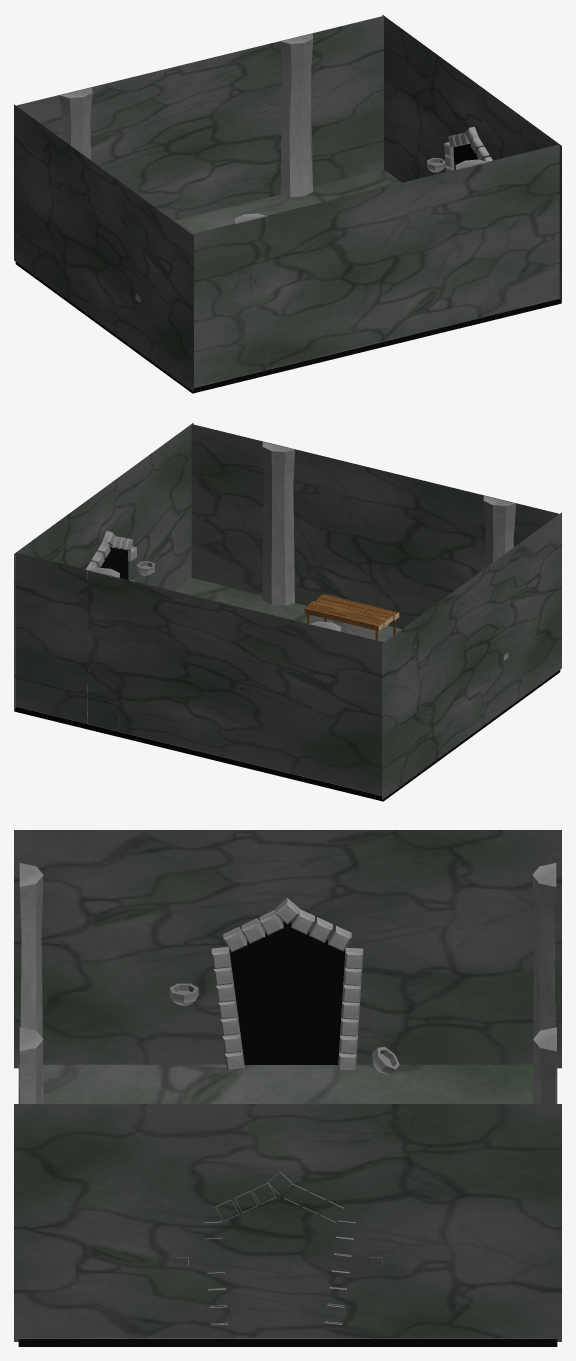
Rendered from donjon.fbx.
The picture shows the model from 3 angles, top to bottom: view 1: azimuth 30°, elevation 25°; view 2: azimuth 150°, elevation 25°; view 3: azimuth 270°, elevation 25°; orthographic projection. The views are drawn at different scales.
Parts seen in each view (by area): view 1: polySurface7, polySurface2, polySurface1, polySurface8, polySurface5, polySurface10, polySurface34; view 2: polySurface2, polySurface7, polySurface1, polySurface8, polySurface5, polySurface10, pCube32, polySurface34, pPlane7; view 3: polySurface8, polySurface1, polySurface10, pPlane6, polySurface5, polySurface15, polySurface34.
Part boxes in pixels (x1=…): polySurface7: x1=192, y1=144, x2=559, y2=387; polySurface2: x1=16, y1=16, x2=383, y2=220; polySurface1: x1=14, y1=104, x2=193, y2=391; polySurface8: x1=382, y1=14, x2=561, y2=301; polySurface5: x1=59, y1=33, x2=488, y2=370; polySurface10: x1=15, y1=169, x2=561, y2=393; polySurface34: x1=427, y1=126, x2=492, y2=172; polySurface2: x1=16, y1=552, x2=383, y2=795; polySurface7: x1=191, y1=424, x2=558, y2=628; polySurface1: x1=382, y1=512, x2=561, y2=799; polySurface8: x1=14, y1=423, x2=193, y2=709; polySurface5: x1=87, y1=442, x2=515, y2=723; polySurface10: x1=14, y1=578, x2=560, y2=801; pCube32: x1=304, y1=594, x2=399, y2=640; polySurface34: x1=86, y1=530, x2=154, y2=581; pPlane7: x1=100, y1=546, x2=128, y2=579; polySurface8: x1=14, y1=1104, x2=561, y2=1341; polySurface1: x1=14, y1=830, x2=561, y2=1068; polySurface10: x1=18, y1=1064, x2=557, y2=1346; pPlane6: x1=229, y1=922, x2=345, y2=1064; polySurface5: x1=19, y1=863, x2=556, y2=1103; polySurface15: x1=169, y1=898, x2=399, y2=1074; polySurface34: x1=174, y1=1172, x2=382, y2=1337.
Bounding box in the file's own units: 36.71 × 15.09 × 30.95.
